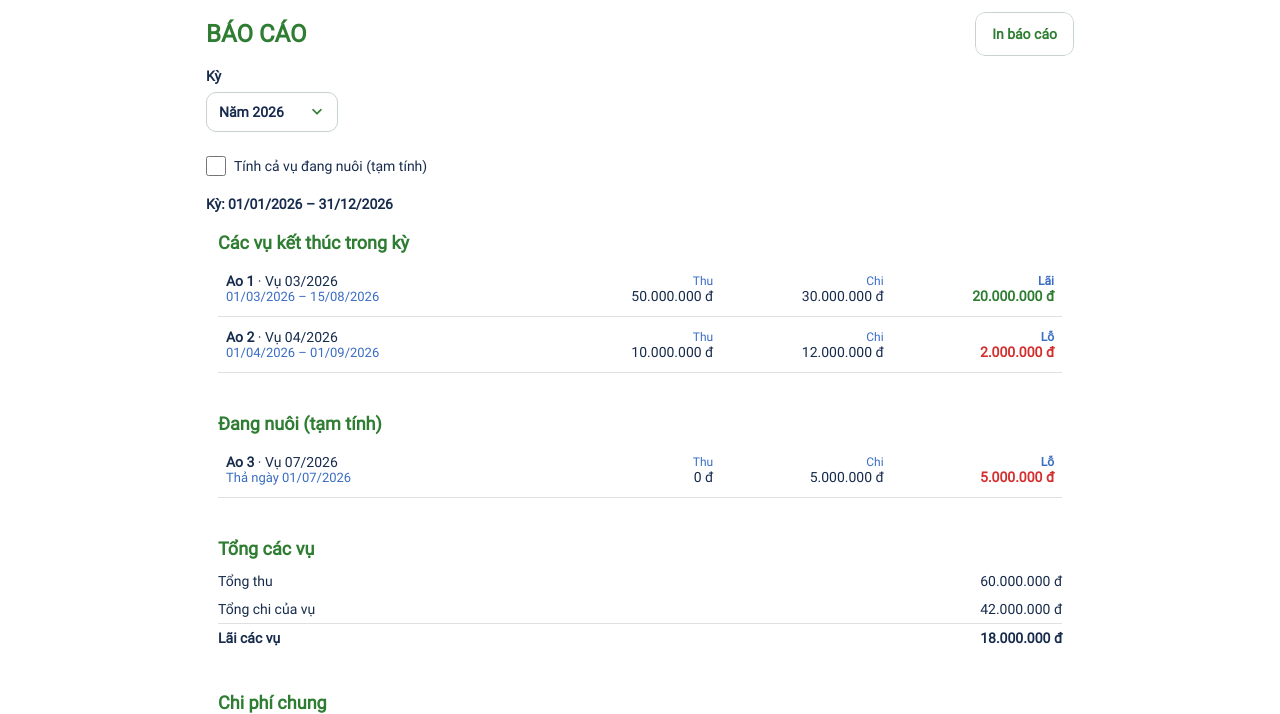
it: kỳ không có hôm nay → ẩn vụ đang nuôi và công tắc, không tính vụ đang nuôi
The width and height of the screenshot is (1280, 714).
Click the checkbox with id "includeOpen".
click(216, 166)  # box [206,156,226,176]
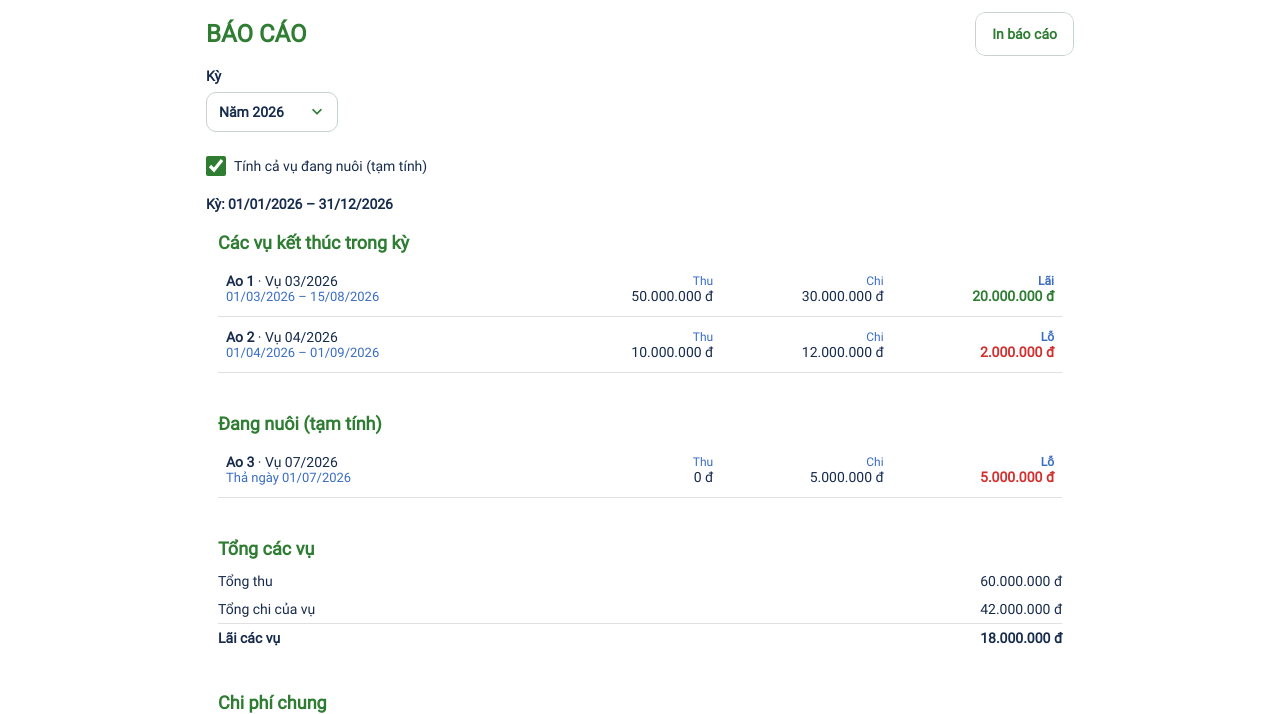
Click the button with id "reportPeriod".
click(272, 112)  # box [206,92,338,132]
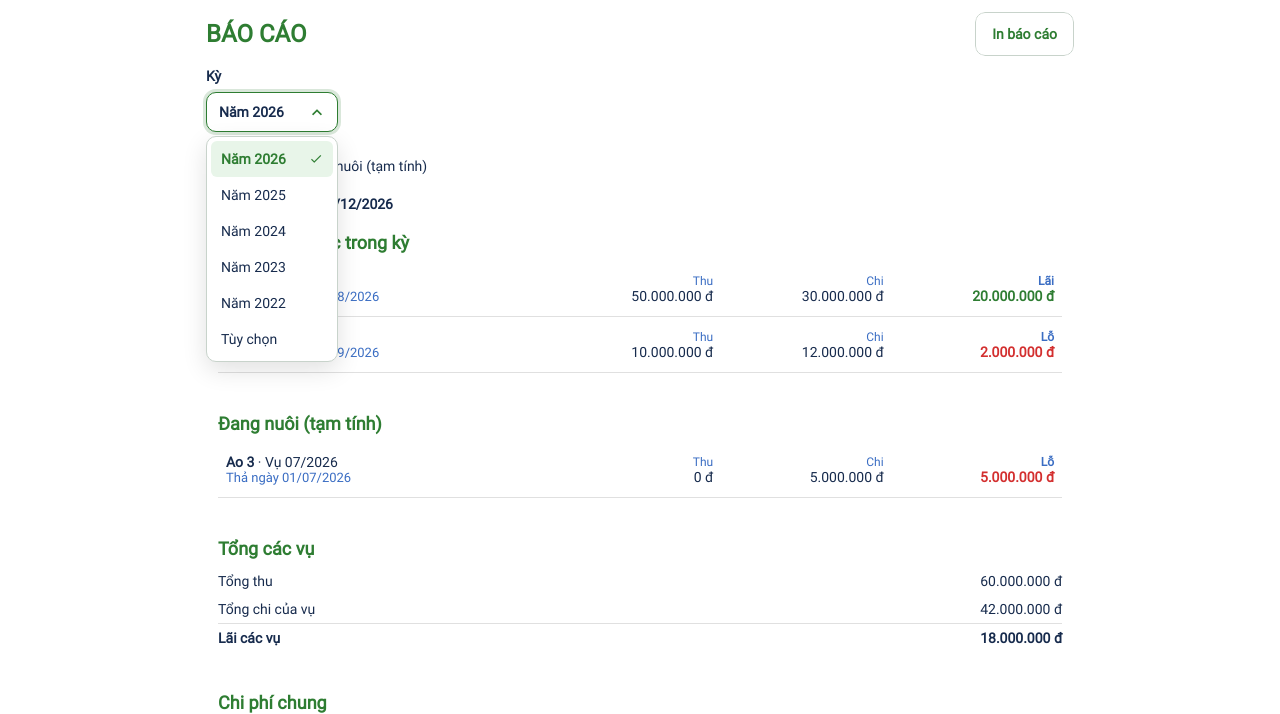
Click the option "Năm 2025".
click(253, 195)  # box [221,187,286,203]
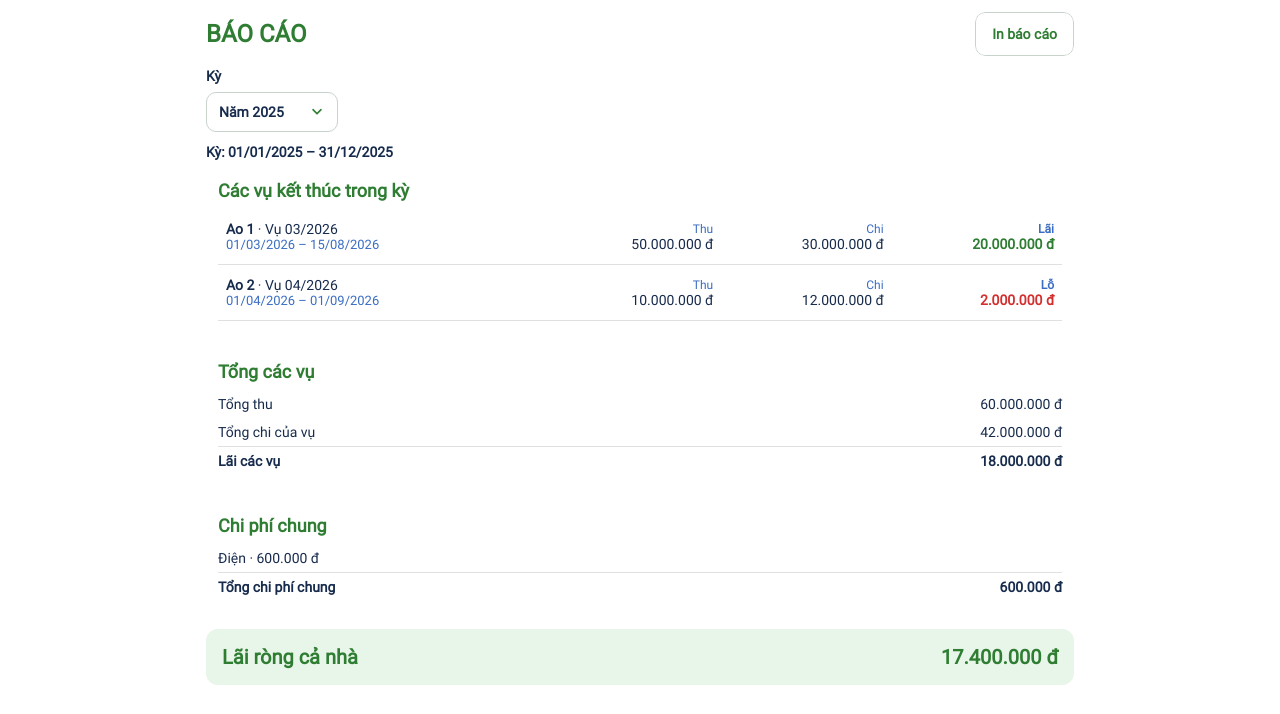
Click the button with id "reportPeriod".
click(272, 112)  # box [206,92,338,132]
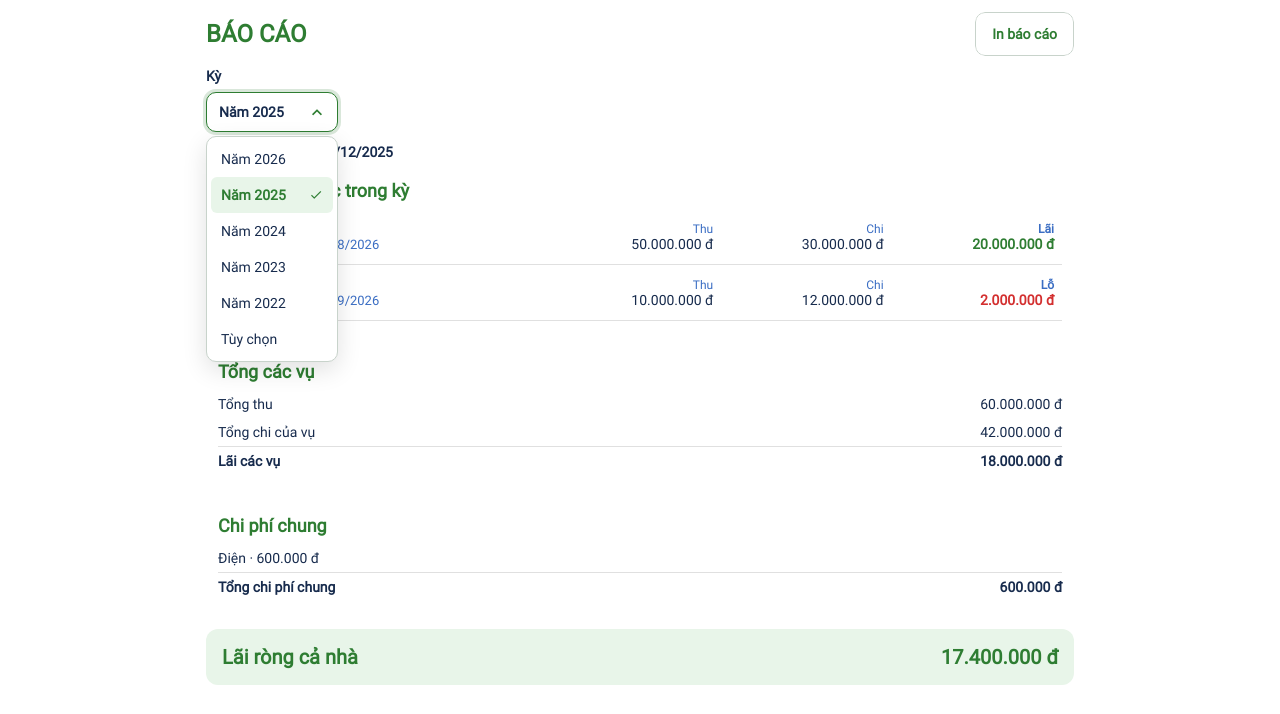
Click the option "Năm 2026".
click(253, 159)  # box [221,151,286,167]
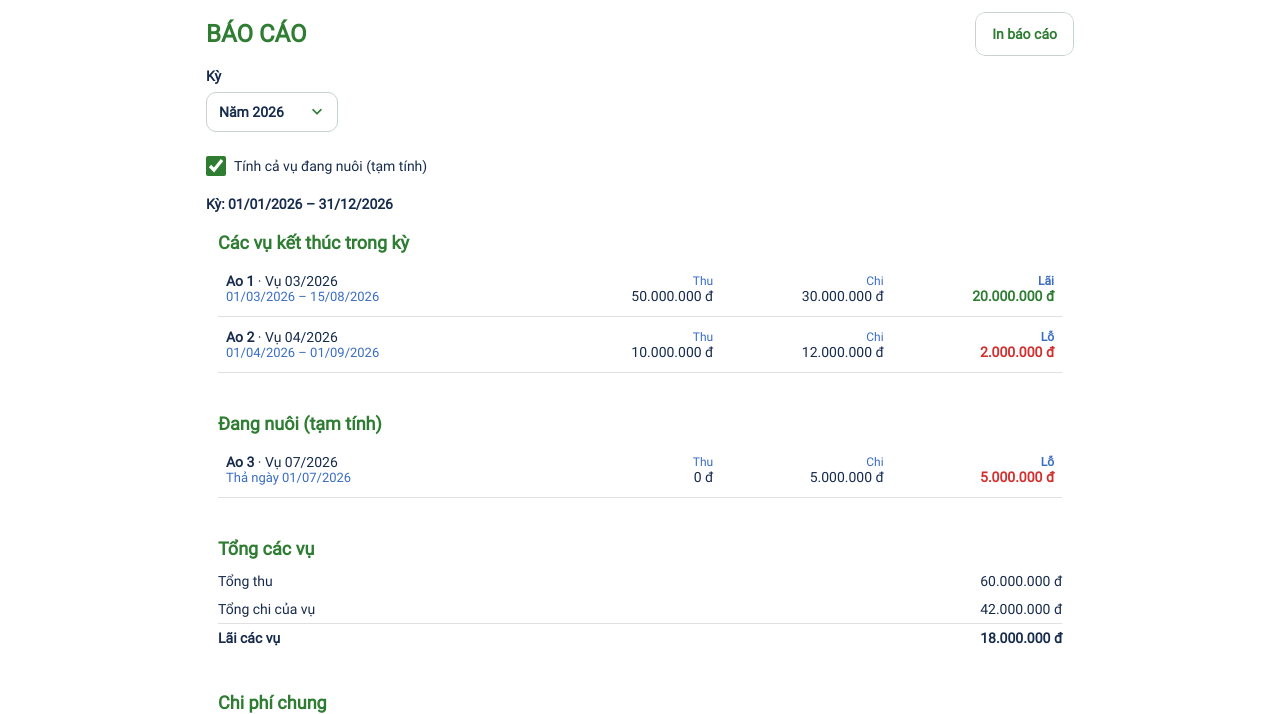
Expected: the element with class "report-open" is shown, [206,401,1074,510]
